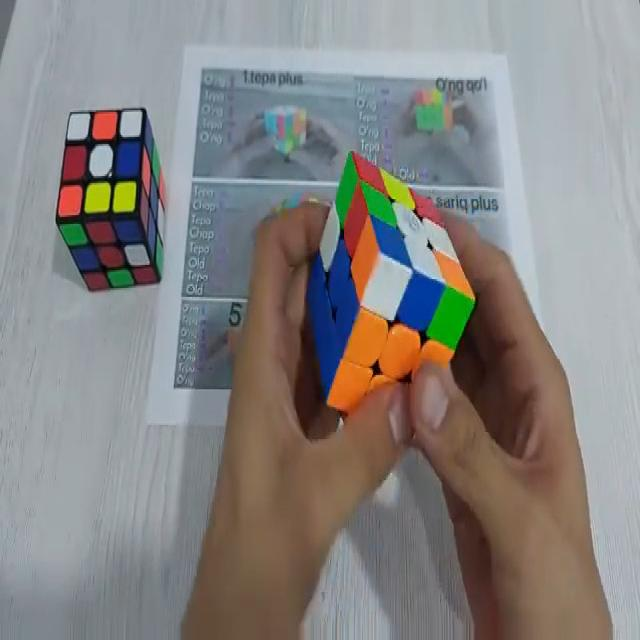Rub: (306, 150, 477, 427), (59, 106, 162, 288)
